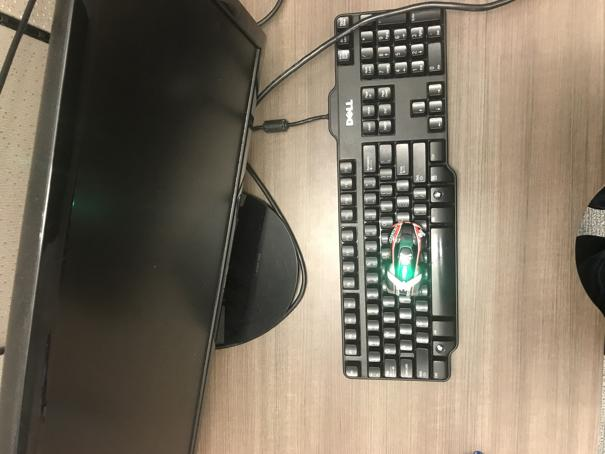Skull: (386, 221, 424, 295)
